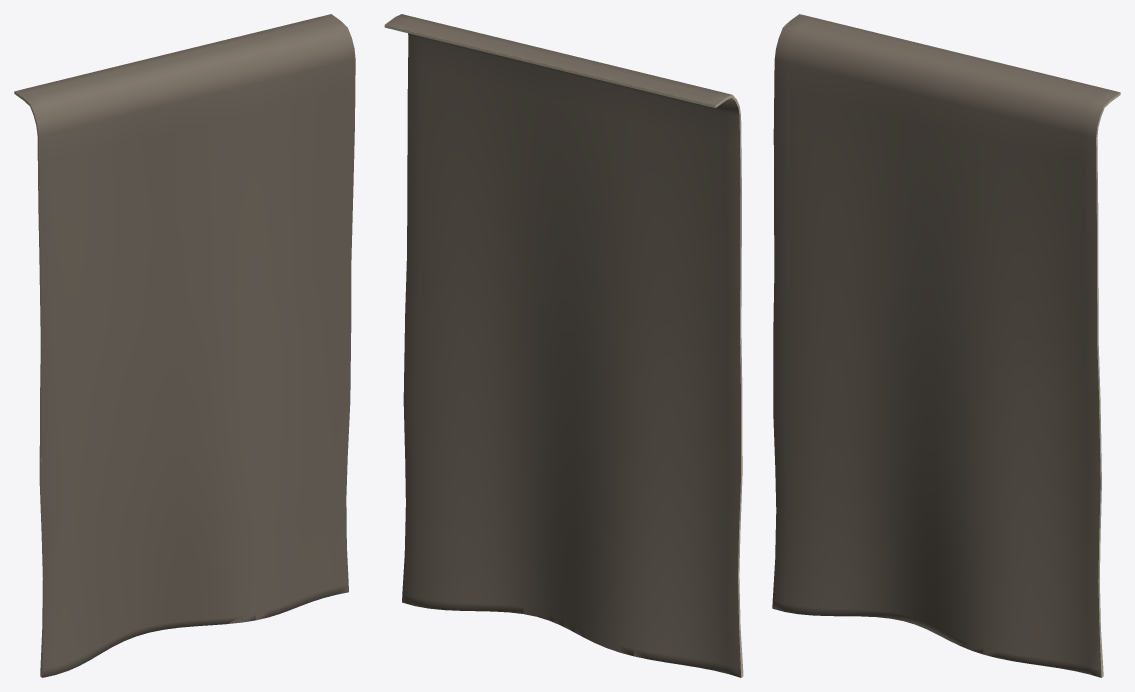
The model's file is kitchen-tea-towel-00fab8e5c2bd.glb.
The picture shows the model from 3 angles, left to right: view 1: azimuth 30°, elevation 25°; view 2: azimuth 150°, elevation 25°; view 3: azimuth 330°, elevation 25°; orthographic projection. The views are drawn at different scales.
Parts seen in each view (by area): view 1: cover-cloth, paper; view 2: cover-cloth, paper; view 3: cover-cloth, paper.
Part boxes in pixels (box(x1,y1,x2,y2)): cover-cloth: box(15, 14, 355, 677); paper: box(14, 91, 44, 677); cover-cloth: box(385, 14, 741, 677); paper: box(384, 25, 743, 677); cover-cloth: box(772, 14, 1120, 677); paper: box(1096, 92, 1120, 677).
Size of the model in its own units: 0.24 by 0.4099 by 0.0392.
